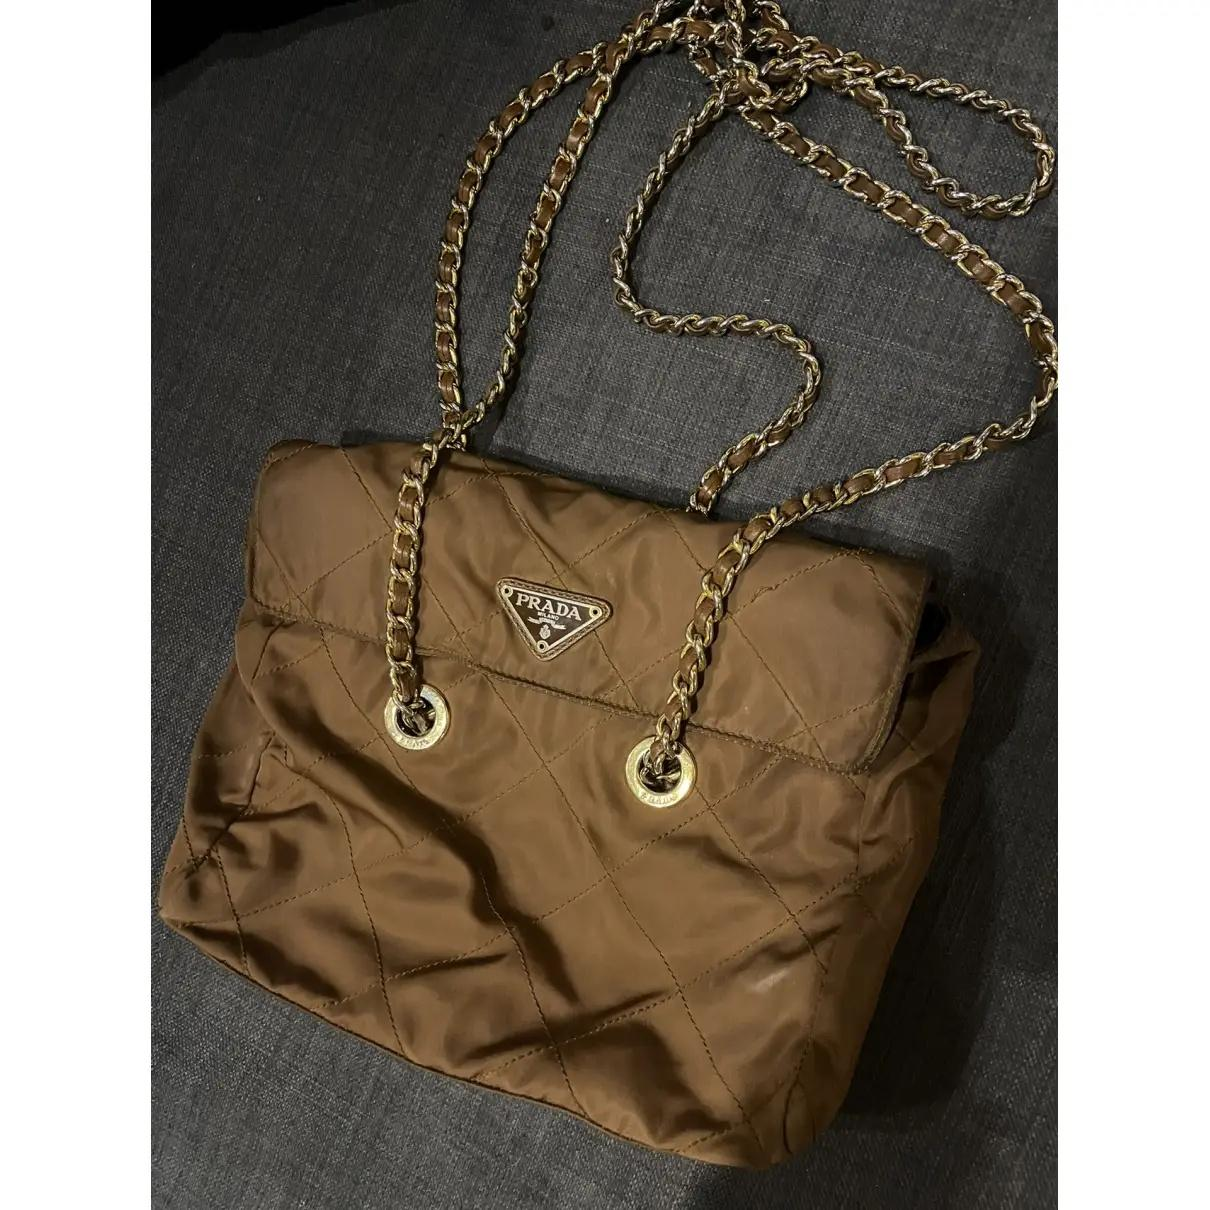PRADA: (500, 584, 604, 654)
